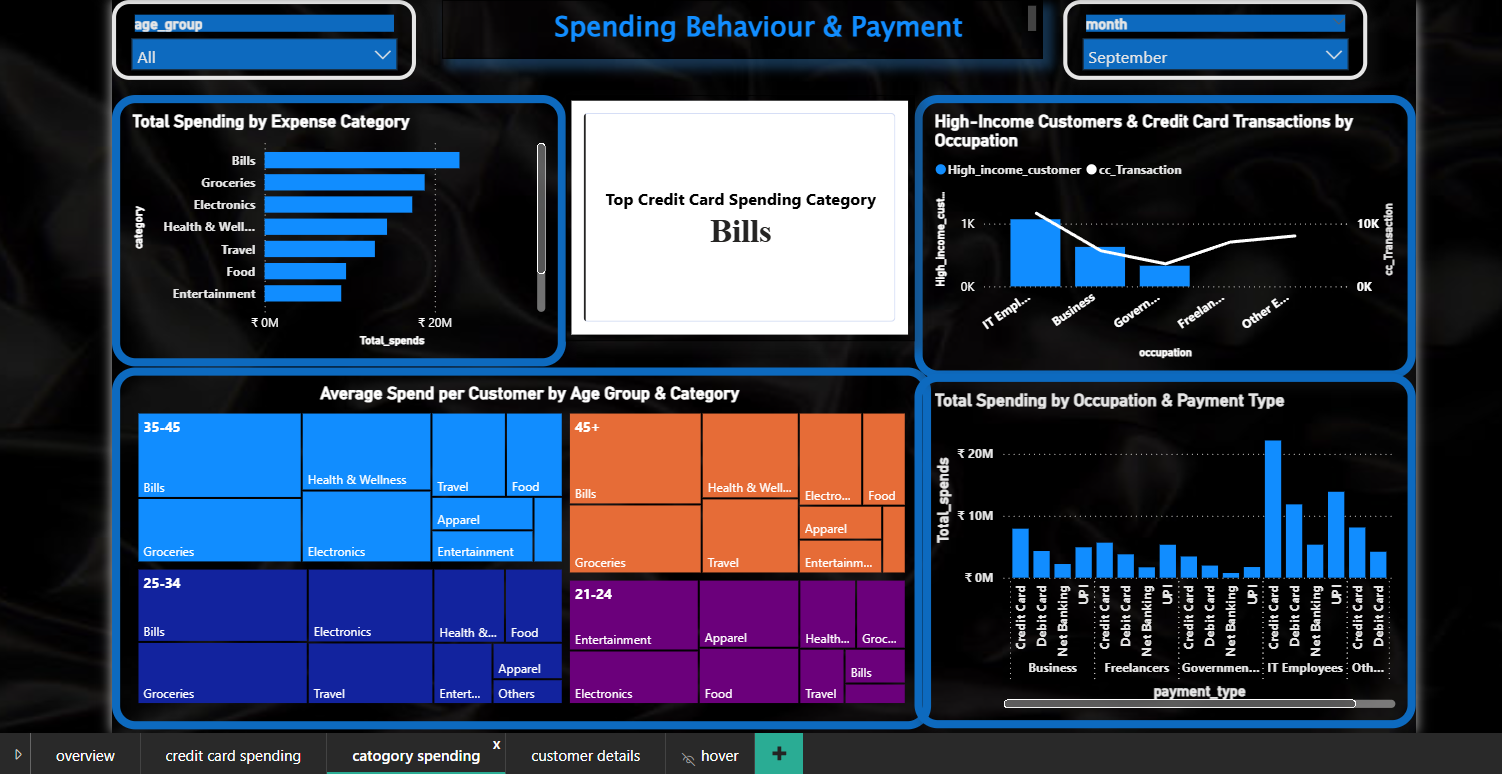

The page's visual inventory and layout, read from the dashboard file:
{"tool":"powerbi","page":{"name":"catogory spending","canvas":[1280,720],"ordinal":2},"visuals":[{"type":"textbox","box":[324,0,589.3,57.3],"z":0},{"type":"barChart","title":"Total Spending by Expense Category","fields":{"Category":["fact_spends.category"],"Y":["_All_Measure.Total_spends"]},"box":[0,93.3,445.3,266.7],"z":1000},{"type":"treemap","title":"Average Spend per Customer by Age Group & Category","fields":{"Group":["dim_customers.age_group"],"Details":["fact_spends.category"],"Values":["_All_Measure.Avg_spend_per_customer"]},"box":[0,360.4,804.2,355.4],"z":2000},{"type":"lineClusteredColumnComboChart","title":"High-Income Customers & Credit Card Transactions by Occupation","fields":{"Y":["_All_Measure.High_income_customer"],"Category":["dim_customers.occupation"],"Y2":["_All_Measure.cc_Transaction"]},"box":[788,93.3,492,278.7],"z":3000},{"type":"clusteredColumnChart","title":"Total Spending by Occupation & Payment Type","fields":{"Category":["dim_customers.occupation","fact_spends.payment_type"],"Y":["_All_Measure.Total_spends"]},"box":[788,366.7,492,348],"z":4000},{"type":"slicer","fields":{"Values":["dim_customers.age_group"]},"box":[0,0,298.7,78.7],"z":6000},{"type":"cardVisual","fields":{"Data":["_All_Measure.Top_CC_Category"]},"box":[445.3,93.3,342.7,241.3],"z":7000},{"type":"slicer","fields":{"Values":["fact_spends.month"]},"box":[933.3,0,298.7,78.7],"z":8000}]}

Visuals, with their boxes on the page's 1280x720 design canvas (x1, y1, x2, y2). These are canvas units, not pixel positions in the 1502x774 screenshot, which may show the page scaled, cropped or inside an application window:
textbox: {"x1": 324, "y1": 0, "x2": 913, "y2": 57}
"Total Spending by Expense Category" barChart: {"x1": 0, "y1": 93, "x2": 445, "y2": 360}
"Average Spend per Customer by Age Group & Category" treemap: {"x1": 0, "y1": 360, "x2": 804, "y2": 716}
"High-Income Customers & Credit Card Transactions by Occupation" lineClusteredColumnComboChart: {"x1": 788, "y1": 93, "x2": 1280, "y2": 372}
"Total Spending by Occupation & Payment Type" clusteredColumnChart: {"x1": 788, "y1": 367, "x2": 1280, "y2": 715}
slicer - dim_customers.age_group: {"x1": 0, "y1": 0, "x2": 299, "y2": 79}
cardVisual - _All_Measure.Top_CC_Category: {"x1": 445, "y1": 93, "x2": 788, "y2": 335}
slicer - fact_spends.month: {"x1": 933, "y1": 0, "x2": 1232, "y2": 79}
